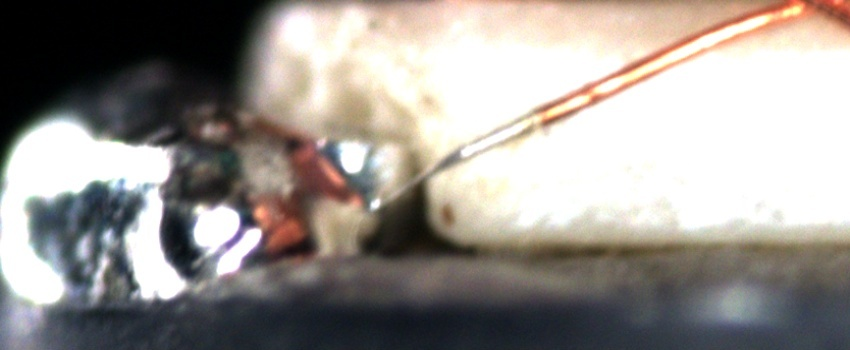TS: (368, 108, 539, 212)
TTCW: (364, 73, 609, 215)
